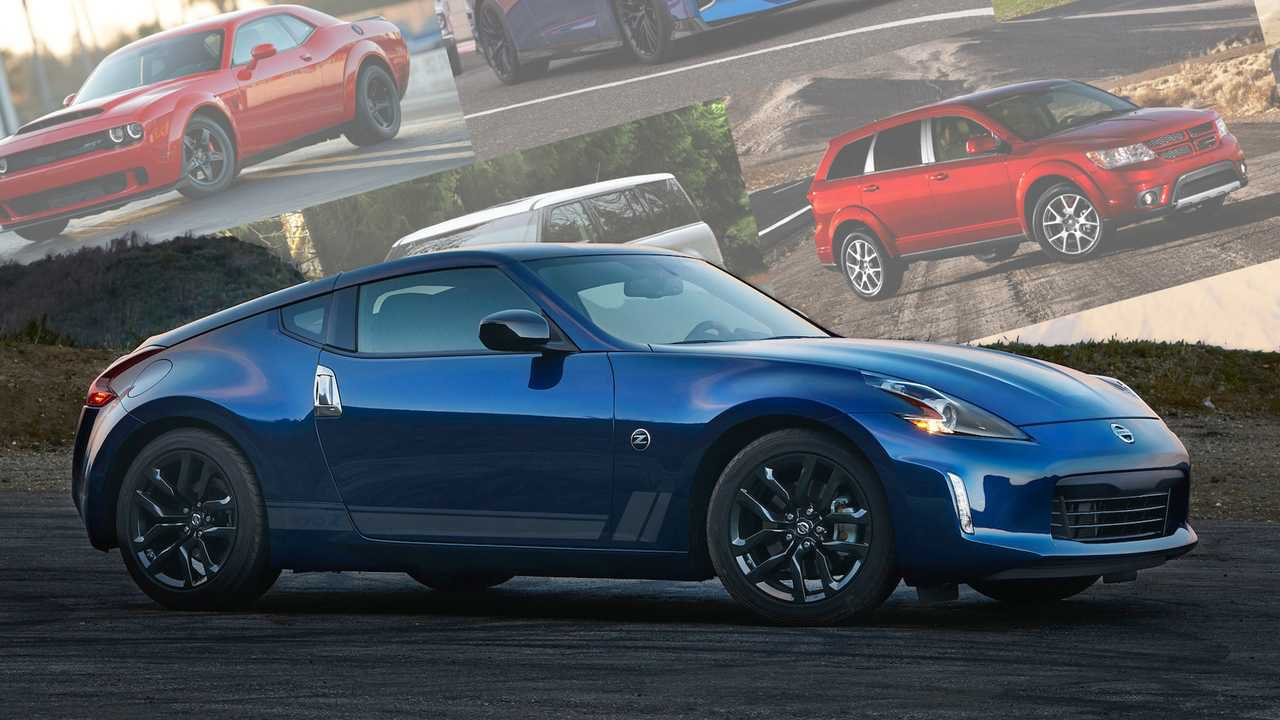car: (75, 239, 1212, 615), (802, 73, 1249, 290), (11, 6, 410, 212), (371, 168, 722, 378)
